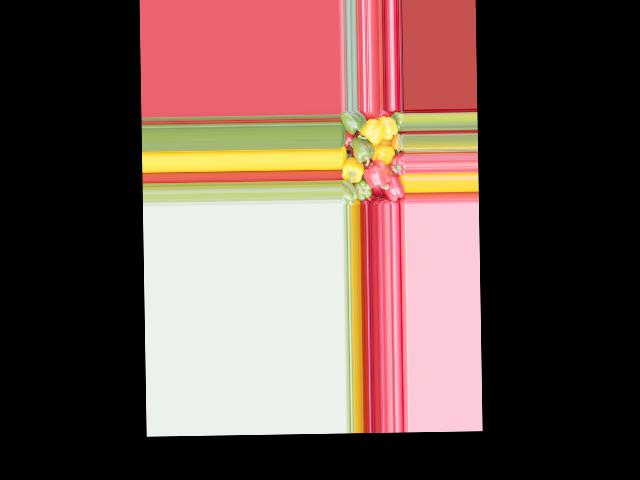bell_pepper: (393, 112, 404, 133)
